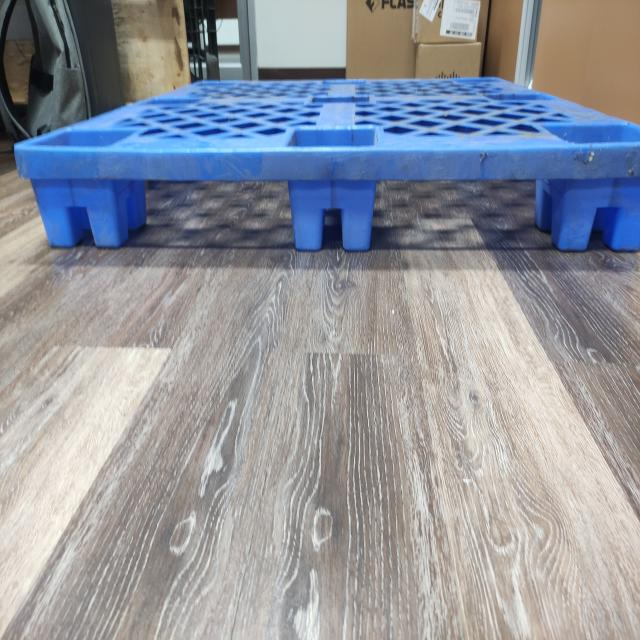block: (283, 178, 382, 253), (32, 178, 124, 251), (561, 182, 640, 252)
front: (12, 139, 640, 254)
